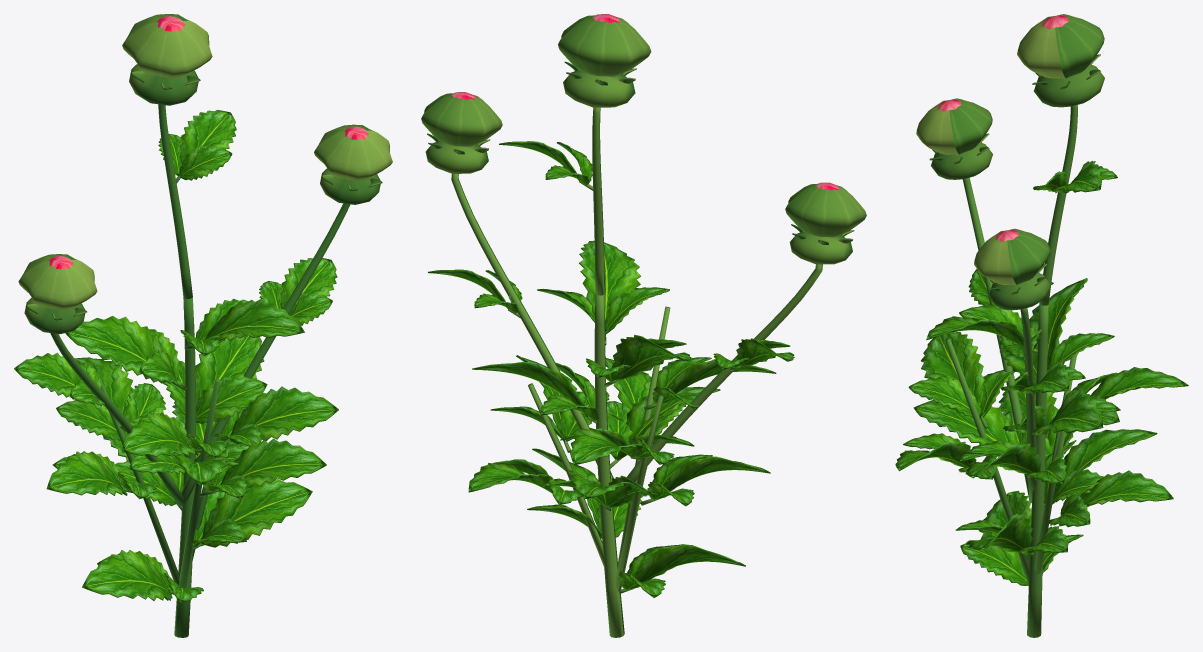
Rendered from NP_Dahlia_BudForming.fbx.
The picture shows the model from 3 angles, left to right: view 1: azimuth 30°, elevation 25°; view 2: azimuth 150°, elevation 25°; view 3: azimuth 270°, elevation 25°; orthographic projection. The views are drawn at different scales.
Parts seen in each view (by area): view 1: NP_Dahlia_BudForming; view 2: NP_Dahlia_BudForming; view 3: NP_Dahlia_BudForming.
Boxes of the visible parts, <box> form: NP_Dahlia_BudForming: <box>14,14,392,637</box>; NP_Dahlia_BudForming: <box>421,14,866,637</box>; NP_Dahlia_BudForming: <box>895,14,1188,637</box>.
Bounding box in the file's own units: 55.71 × 82.55 × 35.56.
